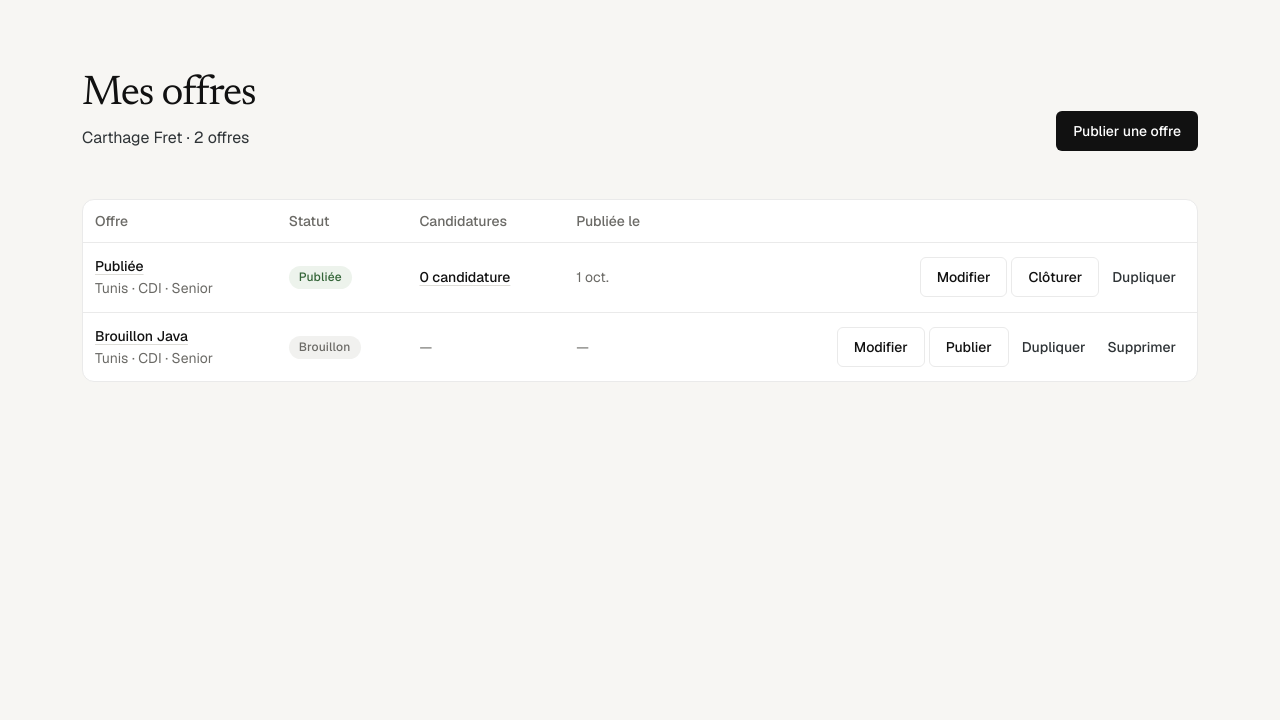
it: deleting a draft offer › asks for a named confirmation, then removes only the draft
The width and height of the screenshot is (1280, 720).
What coordinates should you click on to do the following:
click the button with aria-label "Supprimer le brouillon Brouillon Java"
I would click on:
 (1142, 347)
Its box is left=1098, top=327, right=1185, bottom=367.
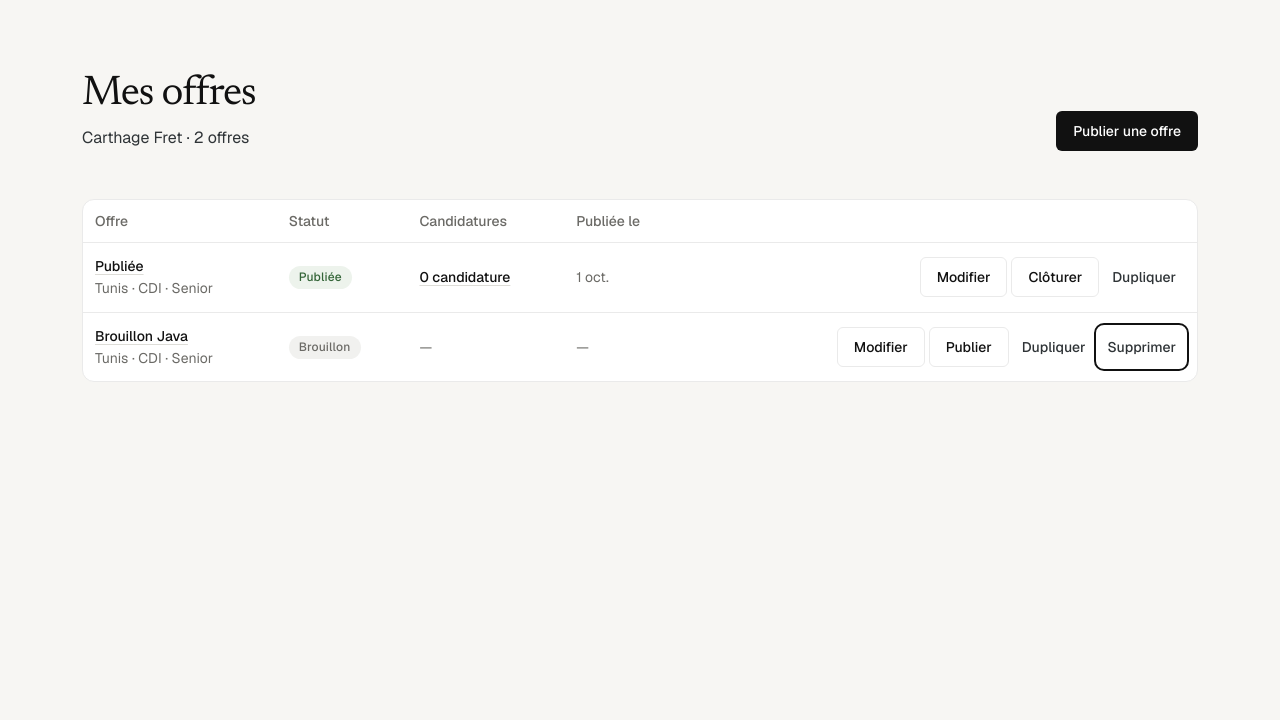
What coordinates should you click on to do the following:
click the button with aria-label "Supprimer le brouillon Brouillon Java"
I would click on:
 (1142, 347)
Its box is left=1098, top=327, right=1185, bottom=367.
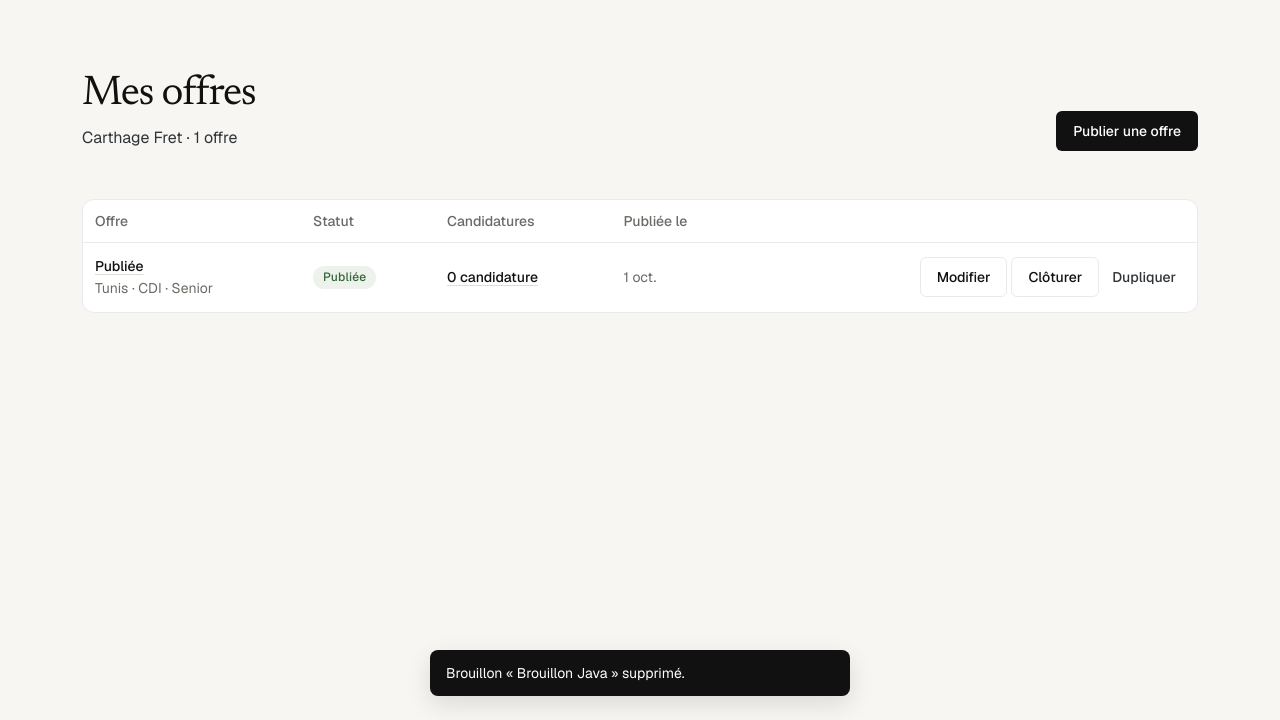
Check: the text "Brouillon « Brouillon Java » supprimé." is shown, box left=430, top=650, right=850, bottom=696
